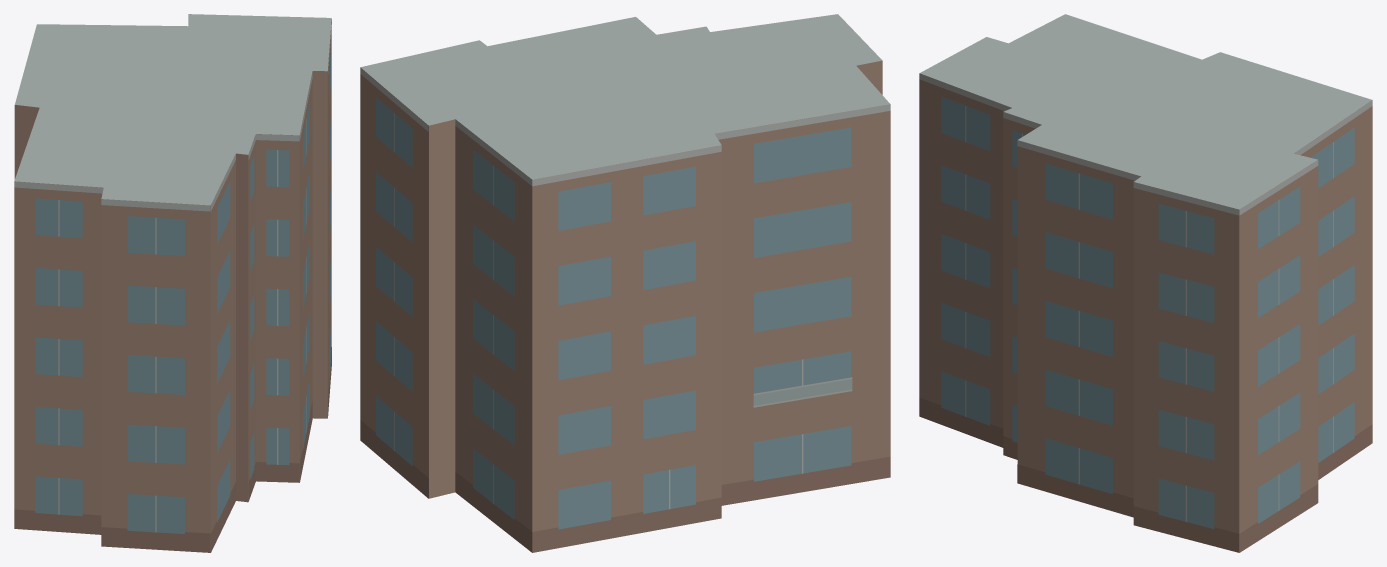
File: survey-upis-32583899.glb
3 views of the same model, side by side, from view 1: azimuth 30°, elevation 25°; view 2: azimuth 150°, elevation 25°; view 3: azimuth 270°, elevation 25° (orthographic). The views are drawn at different scales.
Parts seen in each view (by area): view 1: survey-upis-32583899.tmp; view 2: survey-upis-32583899.tmp; view 3: survey-upis-32583899.tmp.
Part boxes in pixels (<box>): survey-upis-32583899.tmp: <box>14,14,331,552</box>; survey-upis-32583899.tmp: <box>360,14,890,552</box>; survey-upis-32583899.tmp: <box>919,14,1372,552</box>.
Size of the model in its own units: 16.99 by 13.9 by 16.63.
